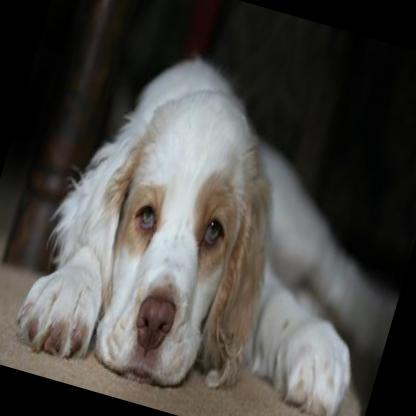clumber: (8, 17, 416, 416)
